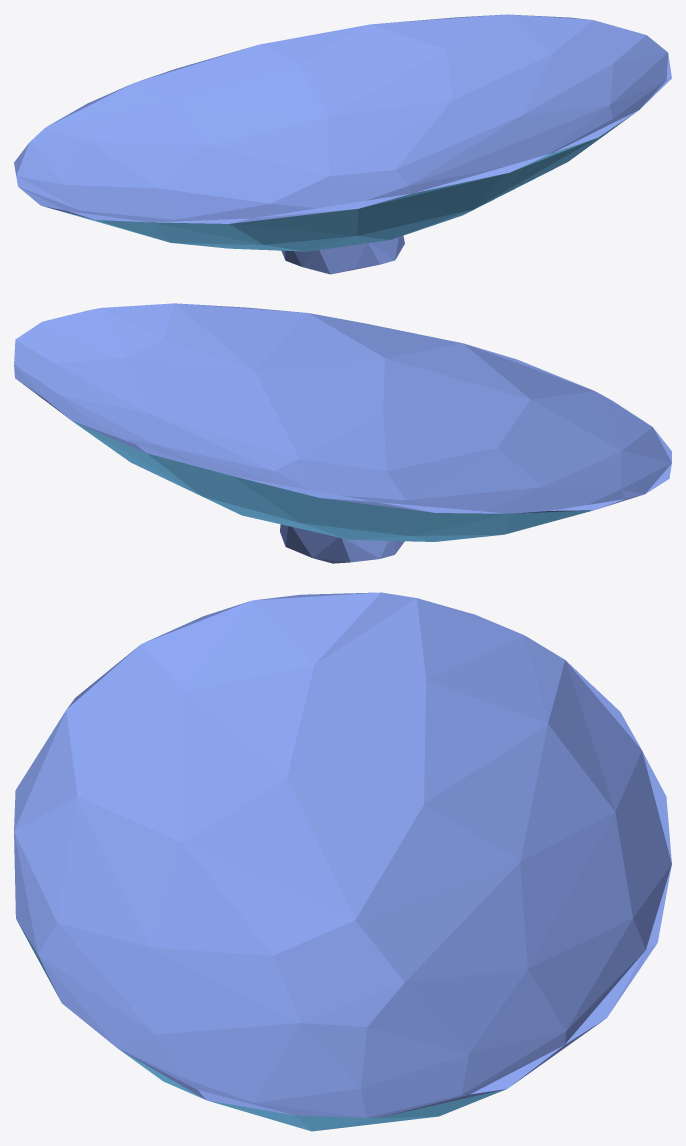
File: FruitBowlBlue.fbx
3 renders of one model, top to bottom at view 1: azimuth 30°, elevation 25°; view 2: azimuth 150°, elevation 25°; view 3: azimuth 270°, elevation 25°, orthographic. The views are drawn at different scales.
Visible parts, largest first — view 1: FruitBowlLowPolyBlue; view 2: FruitBowlLowPolyBlue; view 3: FruitBowlLowPolyBlue.
Part boxes in pixels (x1,y1,x2,y2): FruitBowlLowPolyBlue: [14, 14, 671, 274]; FruitBowlLowPolyBlue: [14, 303, 671, 563]; FruitBowlLowPolyBlue: [14, 592, 671, 1131].
Bounding box in the file's own units: 29.7 × 6.05 × 15.7.
